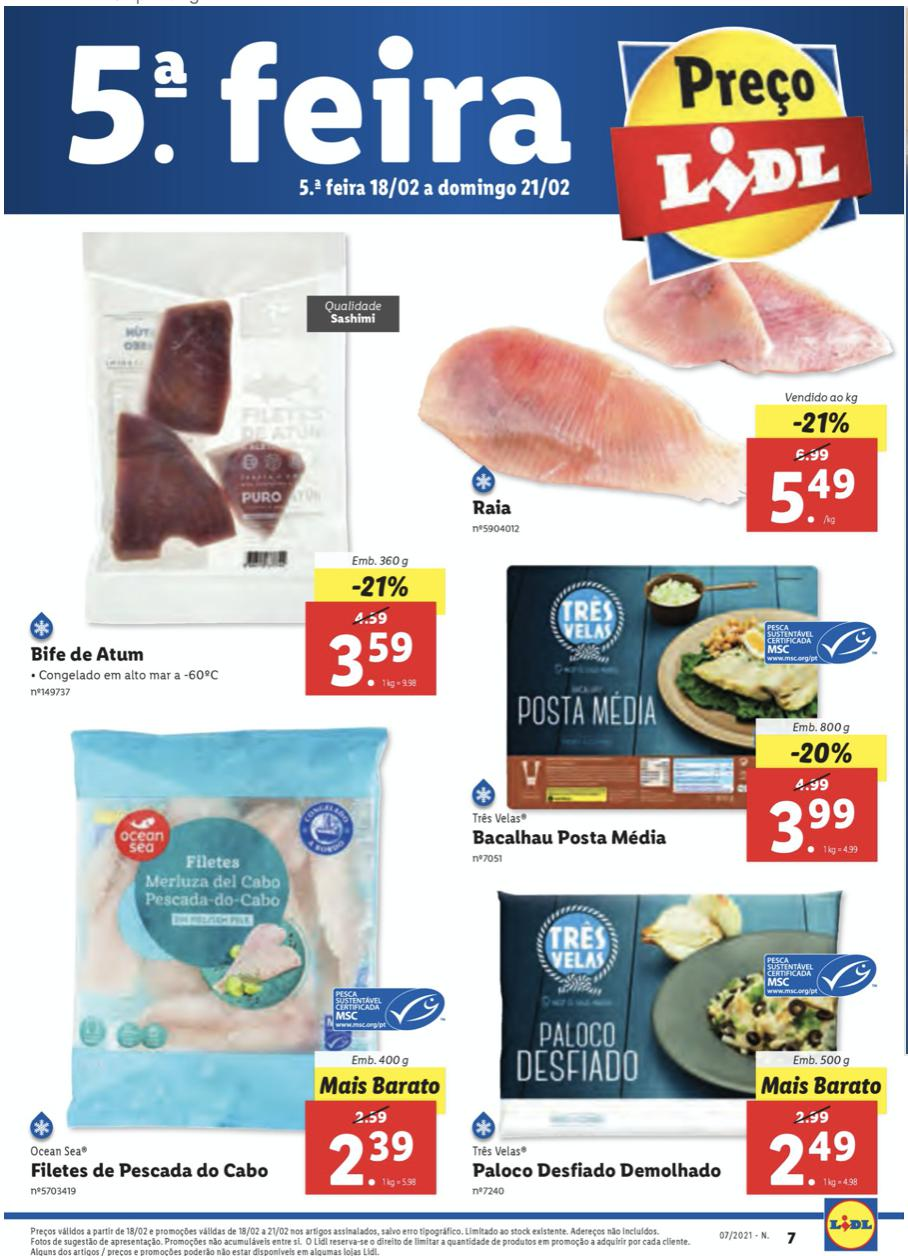name: (466, 1155, 732, 1183), (22, 1158, 277, 1183), (466, 824, 677, 850), (30, 643, 154, 669), (471, 494, 518, 521)
price: (750, 1102, 875, 1194), (311, 1124, 433, 1196), (310, 629, 439, 694), (764, 464, 868, 530), (766, 793, 866, 860)
product: (7, 722, 454, 1205), (8, 218, 446, 708), (455, 550, 894, 874), (464, 882, 896, 1200), (429, 289, 899, 544)
promotion: (783, 405, 863, 439), (783, 735, 857, 766), (349, 571, 416, 600)
